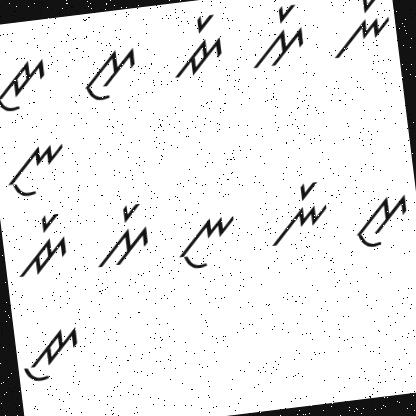jar: (11, 209, 72, 284), (165, 11, 229, 81)
jaw: (13, 318, 85, 384), (0, 52, 52, 118)
nyar: (262, 175, 337, 250), (327, 0, 395, 61)
nyaw: (169, 207, 244, 275), (0, 134, 69, 203)
sar: (90, 195, 154, 269), (244, 2, 308, 72)
saw: (343, 185, 412, 252), (70, 47, 145, 105)
